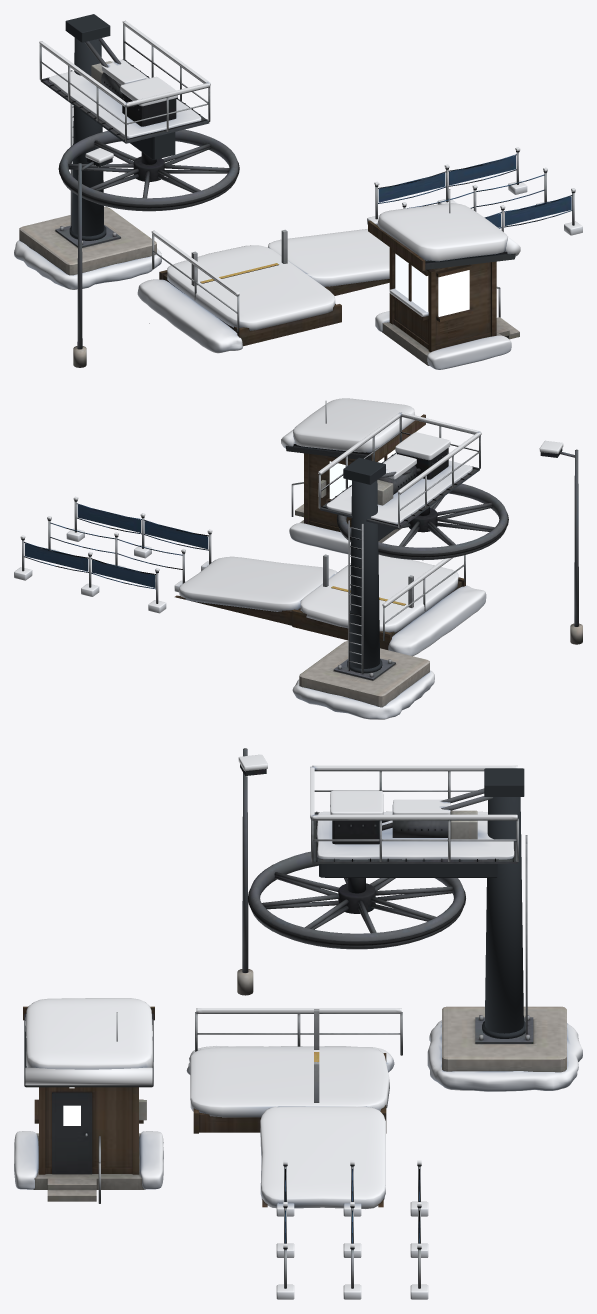
The model's file is terminal_fixed.glb.
3 renders of one model, top to bottom at view 1: azimuth 30°, elevation 25°; view 2: azimuth 150°, elevation 25°; view 3: azimuth 270°, elevation 25°, orthographic. The views are drawn at different scales.
Parts seen in each view (by area): view 1: terminal_fixed_snow, terminal_fixed, terminal_fixed_paint, terminal_fixed_lit; view 2: terminal_fixed_snow, terminal_fixed, terminal_fixed_paint, terminal_fixed_lit; view 3: terminal_fixed_snow, terminal_fixed, terminal_fixed_paint.
Boxes of the visible parts, x1,y1,x2,y2 form: terminal_fixed_snow: (14,20,582,369); terminal_fixed: (19,24,575,367); terminal_fixed_paint: (65,14,175,240); terminal_fixed_lit: (395,253,469,316); terminal_fixed_snow: (14,398,563,719); terminal_fixed: (21,400,582,707); terminal_fixed_paint: (343,457,395,673); terminal_fixed_lit: (329,449,395,499); terminal_fixed_snow: (14,754,582,1299); terminal_fixed: (23,748,566,1288); terminal_fixed_paint: (319,768,525,1038).
Bounding box in the file's own units: 16.28 × 7.61 × 12.74.
Materials: 5 (1 with a texture image).
